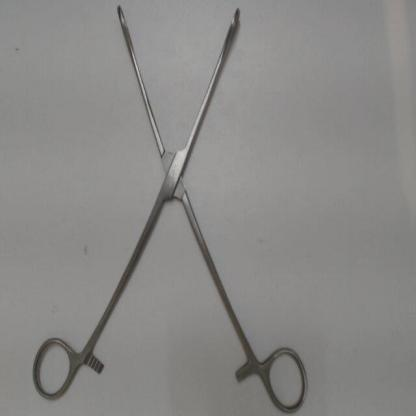Sponge Forceps: (27, 1, 310, 414)
